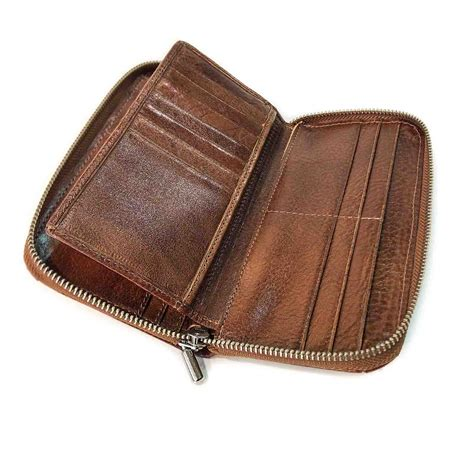cuero: (23, 40, 433, 373)
